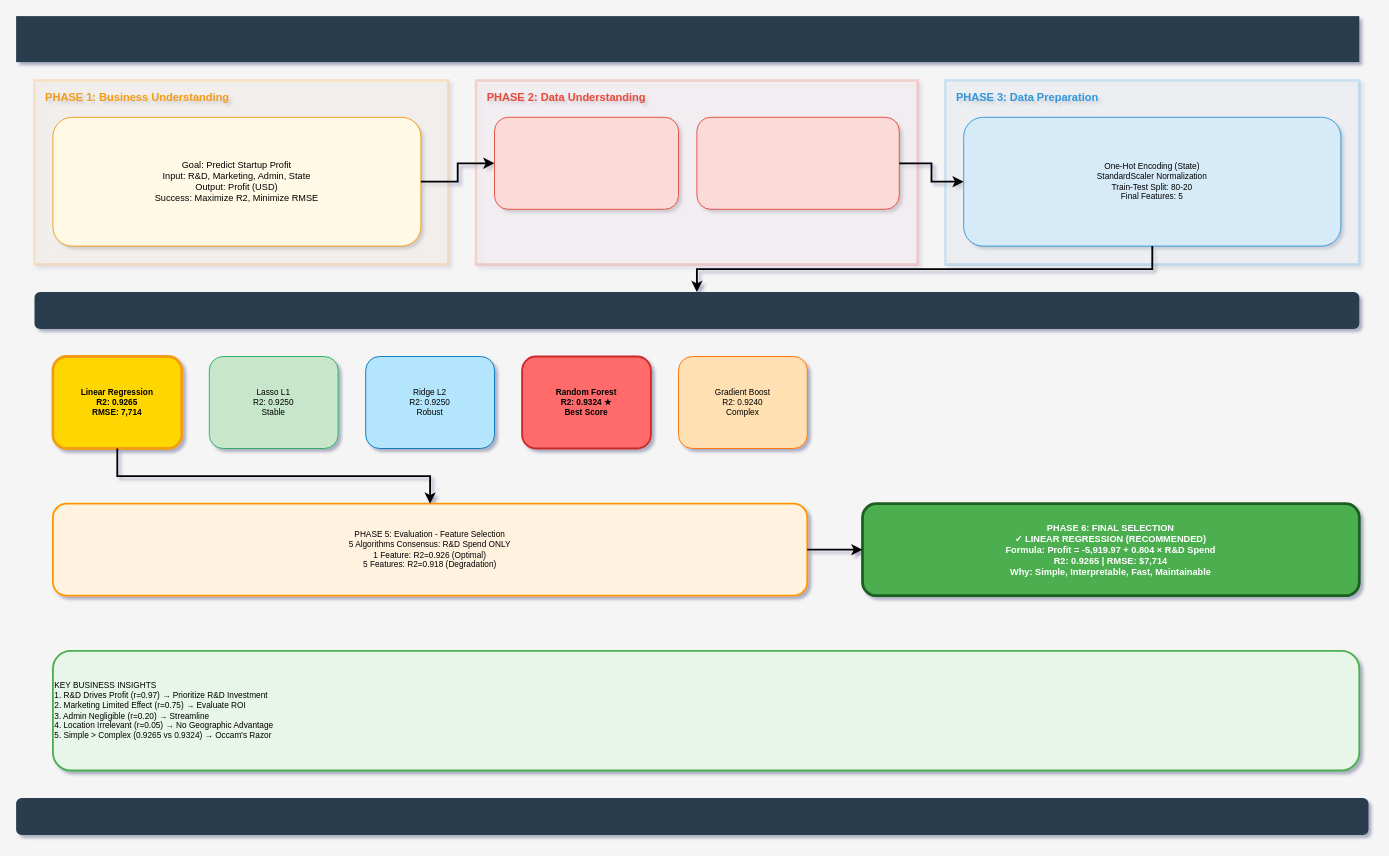
Image size: 1389x856. Some labels were removed from this diagram. Here are the shapes that lost their labels. From the top down, the centre of each, then its label:
(x=687, y=39): 50 Startups Profit Prediction - CRISP-DM Complete Workflow
(x=586, y=162): 50 Startups Dataset 50 rows, 4 features No Missing Values
(x=797, y=162): Key Findings: R&D: 0.97 (Perfect!) Marketing: 0.75 Admin: 0.20 State: 0.05
(x=696, y=310): PHASE 4: Modeling - 5 Models x 16 Feature Combinations = 80 Tests
(x=692, y=816): Dataset: 50 Startups | Tests: 80 | Accuracy: 92.65% | Status: Production Ready
